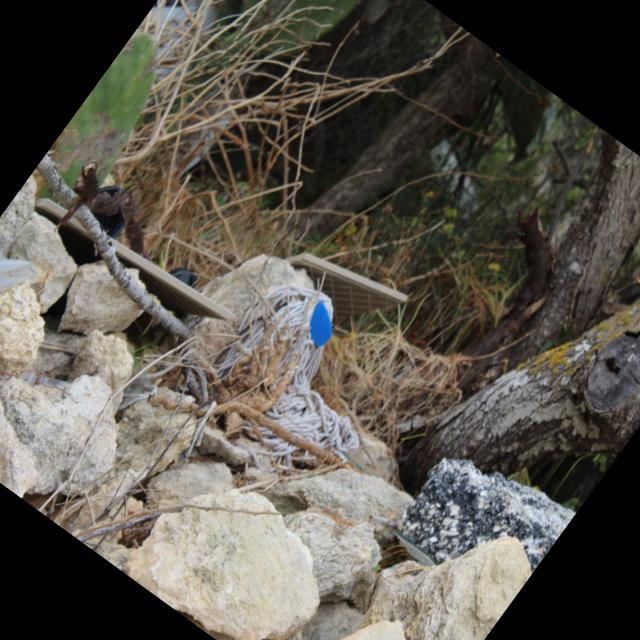Broken glass: (119, 350, 152, 410), (17, 369, 70, 386)
Other litter: (214, 278, 352, 474), (34, 196, 238, 324), (284, 251, 407, 327), (96, 185, 127, 238), (308, 301, 332, 350), (168, 266, 196, 287)
Other plastic: (0, 239, 32, 292)
Unlabeled litter: (168, 66, 248, 176), (137, 0, 220, 86), (429, 138, 477, 217)
